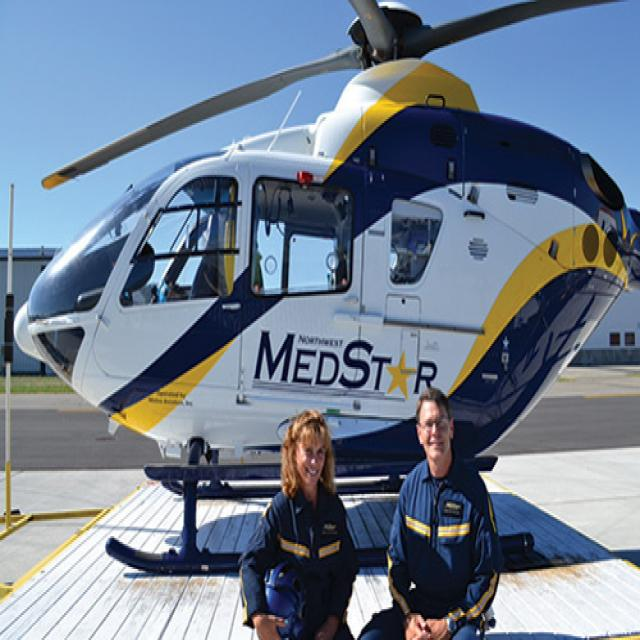helicopter: (15, 30, 640, 579)
